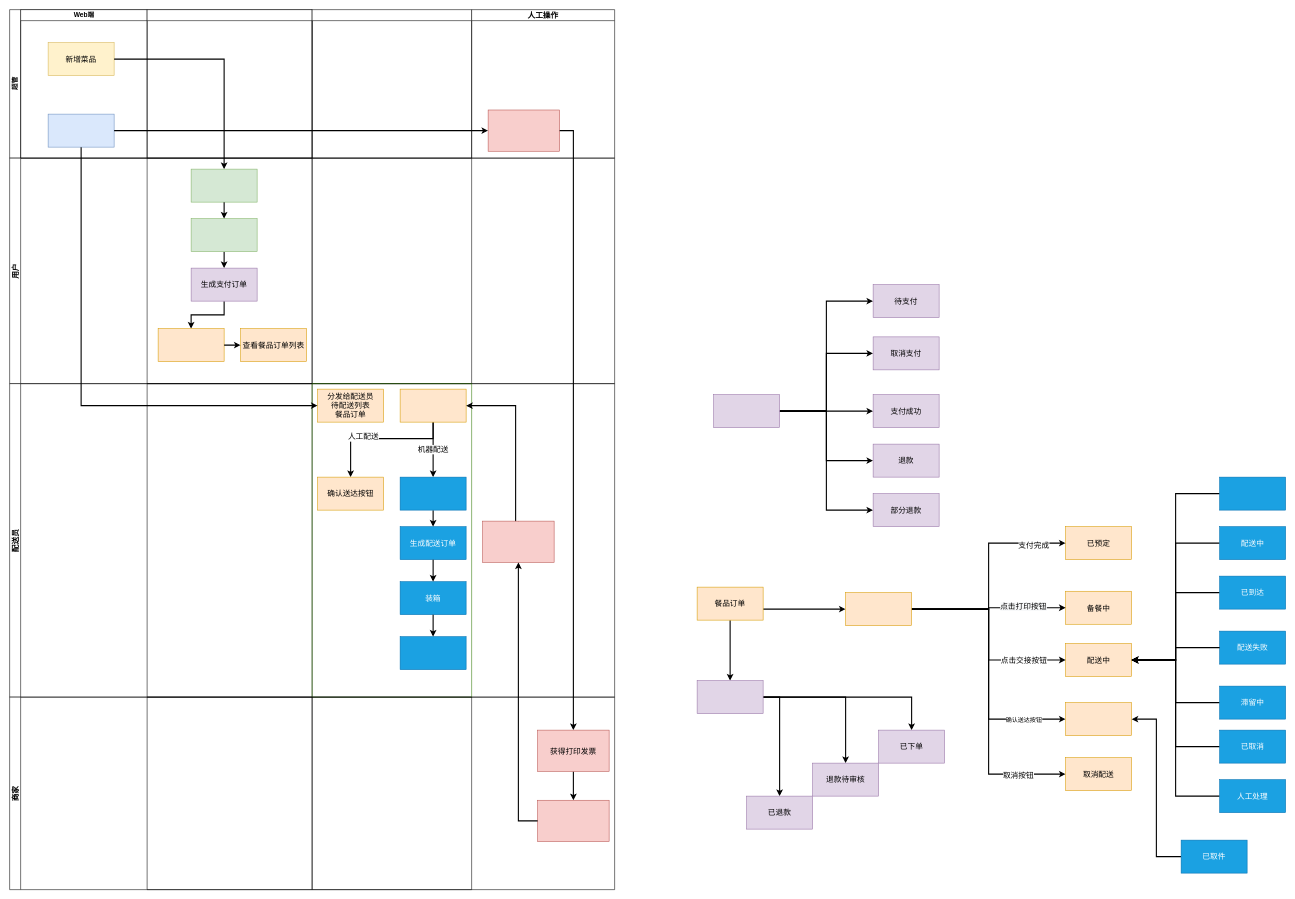
This 1295x899 diagram has some shape labels left out. The shapes that lost their labels are listed below. From the top down, each one's centre as x and y in pixels, then its label:
(x=229, y=83): 小程序
(x=392, y=83): APP
(x=81, y=130): 打印按钮（备餐）
(x=524, y=130): 拿着打印发票给商家
(x=224, y=185): 展示菜单列表
(x=224, y=235): 下单
(x=191, y=345): 生成餐品订单
(x=433, y=405): 确认交接按钮
(x=746, y=411): 支付订单
(x=433, y=493): 打印单扫码
(x=1252, y=493): 待配送
(x=518, y=541): 获得菜和打印单
(x=878, y=609): 订单配送状态
(x=433, y=653): 修改配送订单状态
(x=730, y=697): 订单支付状态
(x=1098, y=719): 配送完成
(x=573, y=821): 做好菜，联系配送员来拿菜
